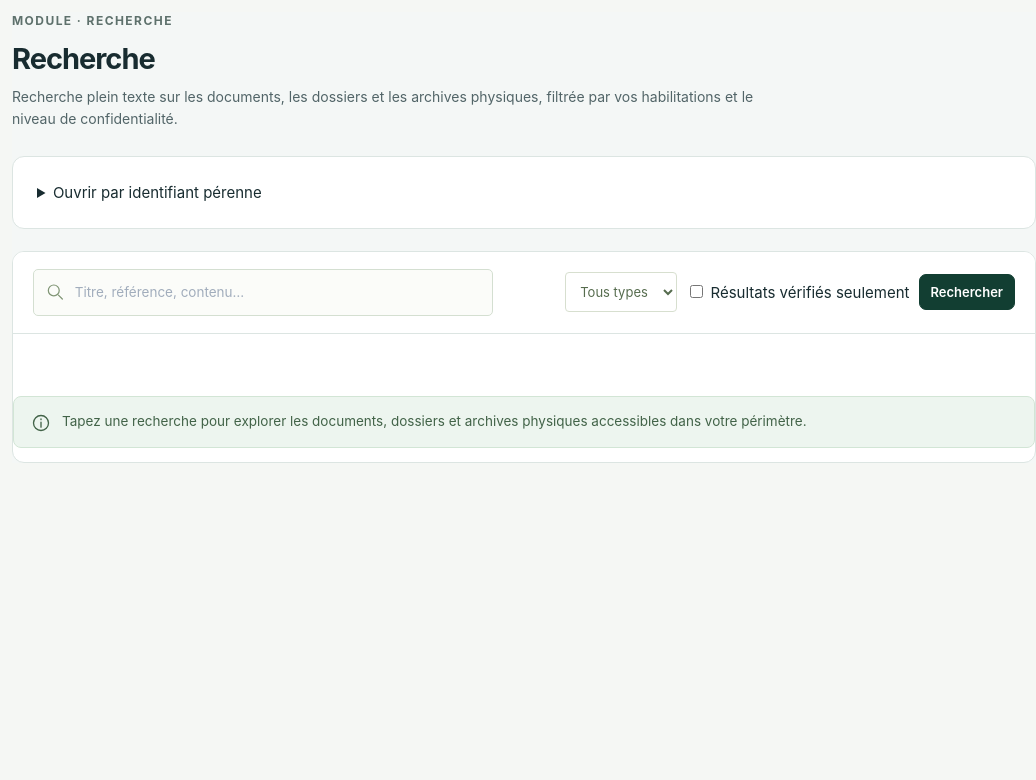
Test: signale « Texte non vérifié » sur un résultat que seule une lecture automatique fait répondre, et lui seul
In the field named "Rechercher": [277, 292] box [75,270,480,315], type "alpha"
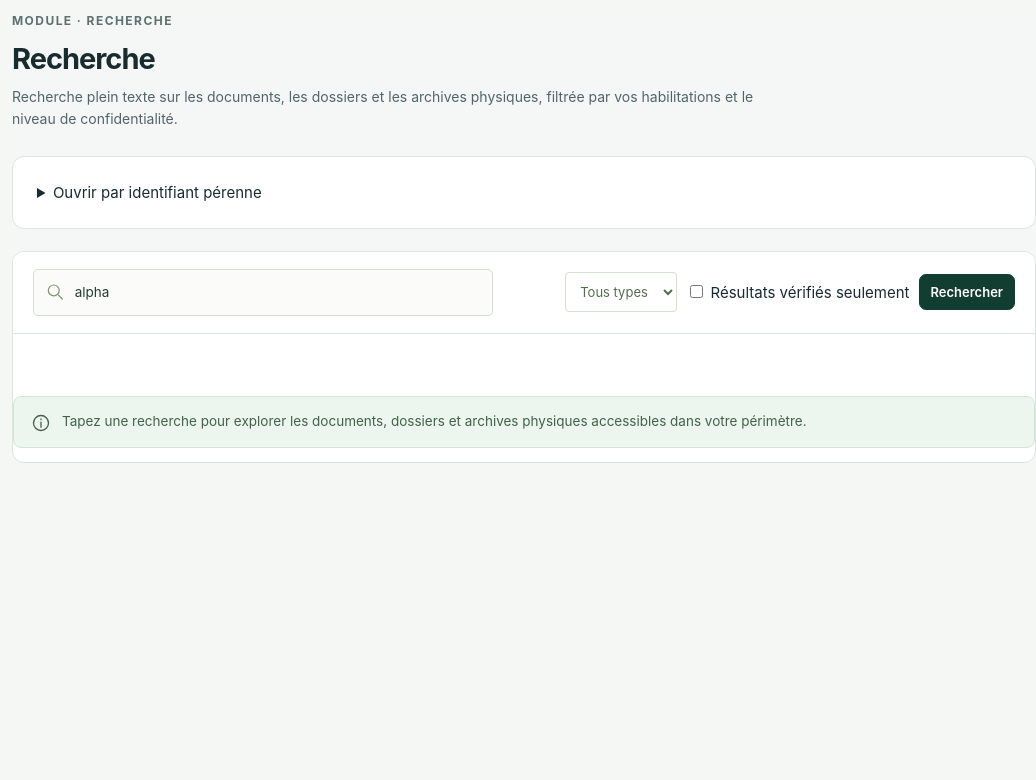
Click the button "Rechercher": [967, 292] box [918,274,1015,310]
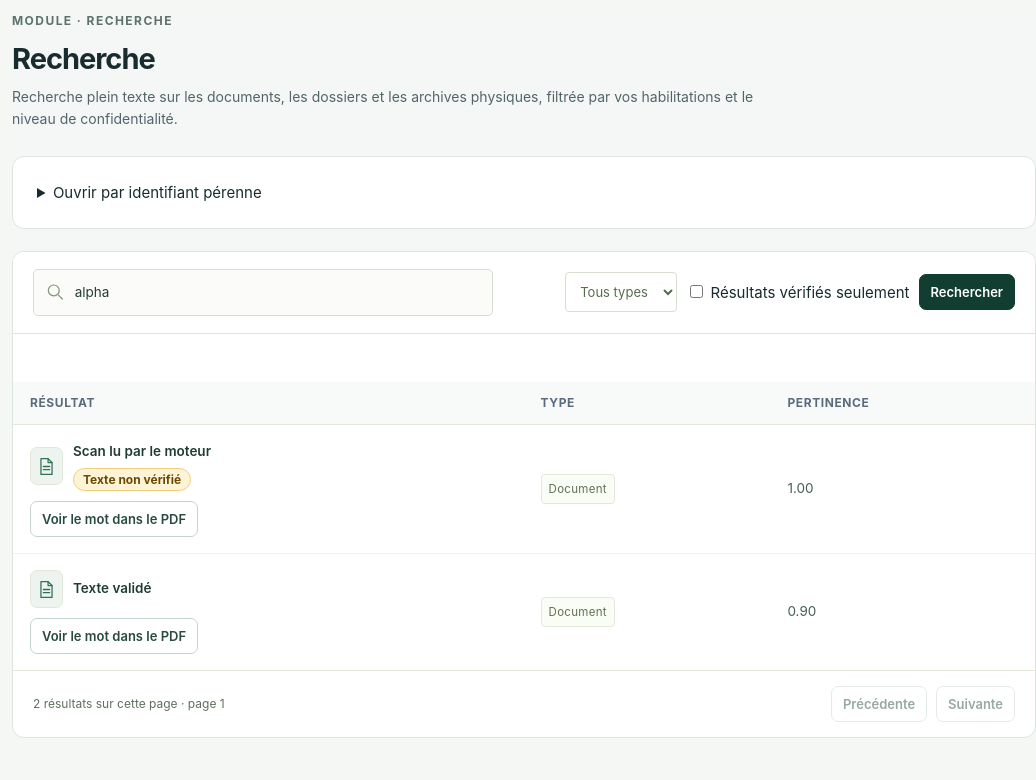
Expected: the text "Scan lu par le moteur" is shown, [73,441,211,463]
Expected: the text "Texte non vérifié" is shown once, [73,468,191,491]
Expected: the text "Texte non vérifié" shows "Scan lu par le moteur", [30,441,220,491]
